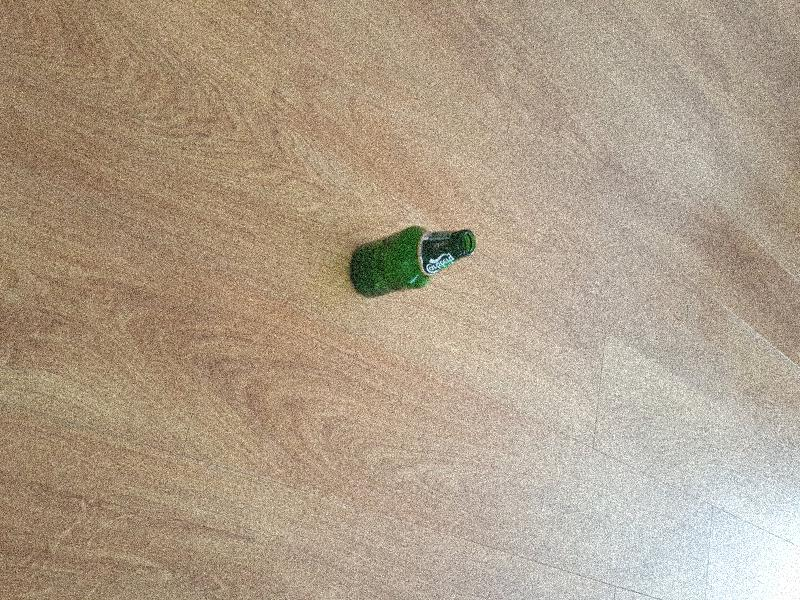Beer: (349, 225, 477, 298)
